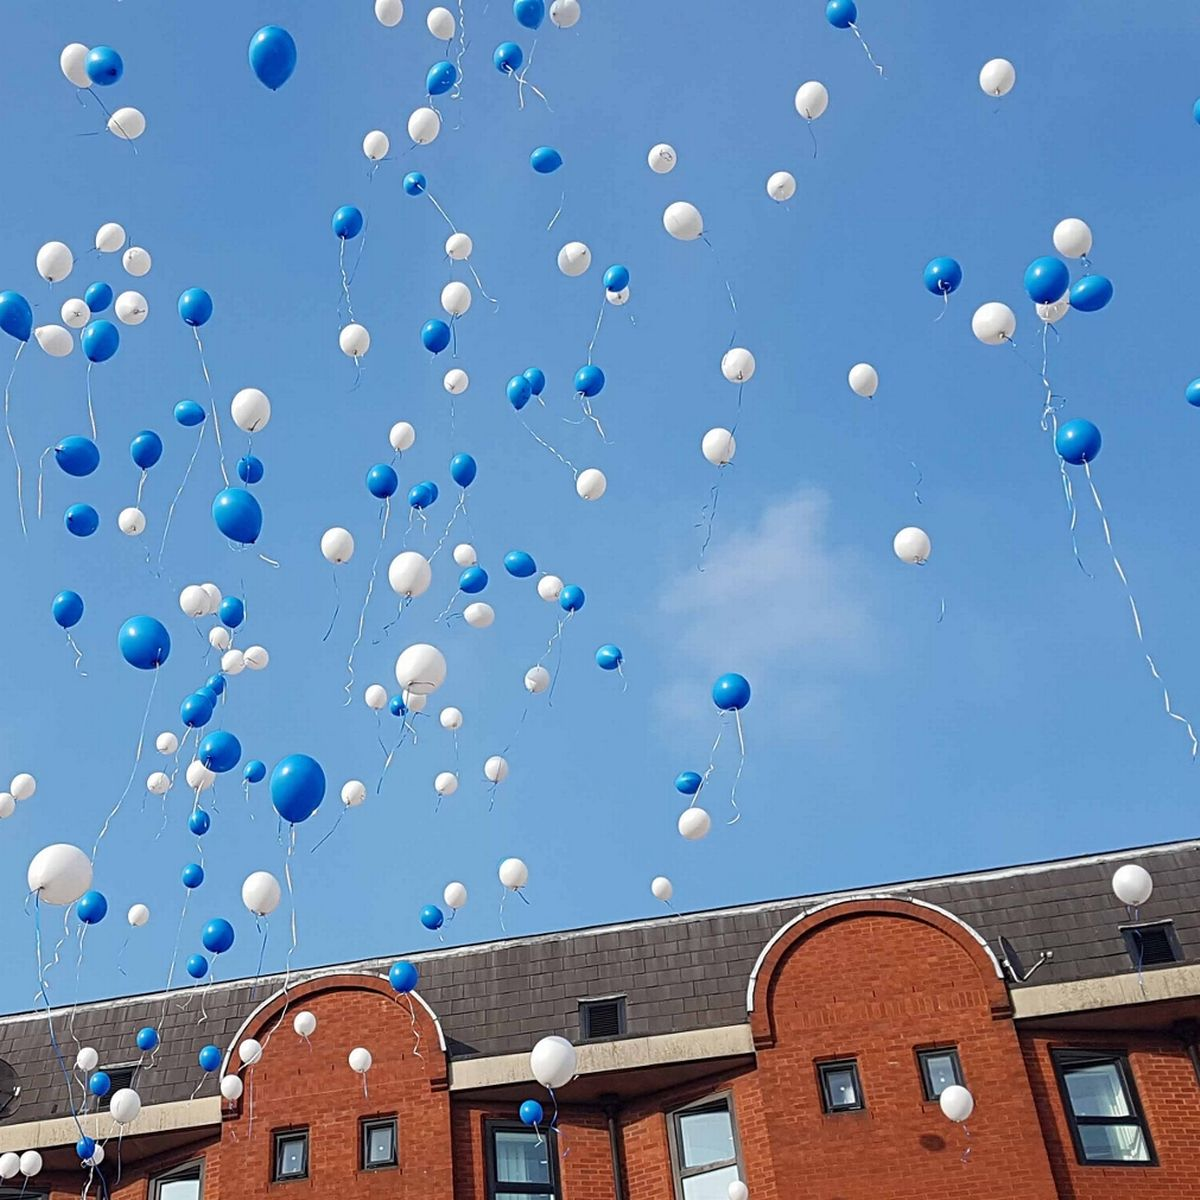Balloon: (268, 754, 326, 824), (31, 845, 93, 905), (251, 27, 295, 91), (395, 644, 448, 695), (212, 489, 262, 540), (127, 615, 171, 671), (531, 1036, 576, 1087), (1055, 419, 1102, 465), (1024, 256, 1069, 303), (229, 389, 271, 434), (973, 302, 1016, 345), (389, 552, 431, 597), (55, 435, 100, 477), (200, 732, 241, 776), (1067, 274, 1113, 312), (240, 873, 279, 916), (1053, 216, 1092, 258), (1112, 864, 1152, 905), (35, 241, 74, 284), (1, 289, 32, 342), (922, 255, 962, 295), (663, 201, 703, 240), (84, 320, 120, 362), (892, 527, 932, 565), (720, 345, 755, 387), (712, 673, 751, 710), (59, 42, 90, 88), (795, 80, 829, 121), (34, 324, 75, 358), (979, 59, 1016, 96), (179, 289, 213, 327), (129, 431, 163, 469), (322, 526, 355, 566), (105, 105, 145, 138), (557, 241, 592, 277), (63, 503, 99, 538), (938, 1084, 973, 1121), (88, 46, 122, 84), (115, 289, 149, 326), (407, 107, 440, 145), (703, 429, 736, 464), (848, 362, 879, 399), (438, 282, 471, 316), (202, 918, 234, 953), (677, 808, 712, 838), (110, 1088, 141, 1123), (331, 207, 363, 238), (179, 587, 211, 619), (425, 8, 457, 40), (340, 324, 370, 357), (425, 62, 456, 95), (421, 321, 451, 355), (576, 469, 608, 500), (366, 466, 397, 498), (77, 891, 108, 923), (388, 962, 418, 993), (574, 367, 605, 397), (95, 223, 126, 253), (84, 281, 113, 313), (451, 452, 478, 486), (498, 858, 529, 888), (647, 143, 677, 174), (60, 298, 91, 327), (504, 551, 537, 578), (182, 695, 211, 725), (360, 131, 389, 162), (513, 1, 545, 29), (767, 171, 796, 201), (122, 247, 152, 276), (825, 1, 856, 29), (174, 400, 205, 426), (495, 44, 523, 73), (118, 507, 146, 535), (549, 1, 580, 27), (374, 1, 404, 27), (531, 148, 563, 174), (458, 568, 488, 595), (389, 424, 415, 454), (673, 771, 705, 795), (602, 264, 630, 291), (10, 773, 37, 800), (444, 234, 473, 260), (508, 375, 529, 410), (465, 603, 495, 627), (518, 1099, 544, 1125), (524, 666, 549, 693), (596, 645, 623, 670), (220, 599, 244, 627), (443, 369, 469, 395), (237, 1038, 263, 1065), (484, 756, 508, 784), (443, 882, 468, 908), (453, 543, 478, 568), (244, 646, 269, 671), (537, 576, 562, 602), (238, 457, 263, 484), (341, 779, 365, 805), (199, 1045, 222, 1073), (560, 585, 584, 611), (434, 773, 459, 796), (365, 684, 388, 709), (349, 1048, 373, 1074), (295, 1012, 316, 1038), (221, 1074, 243, 1100), (420, 905, 444, 929), (438, 707, 463, 730), (182, 864, 205, 888), (652, 876, 674, 900), (186, 954, 208, 978), (76, 1047, 97, 1073), (403, 690, 426, 712), (409, 485, 431, 508), (189, 813, 211, 836), (127, 904, 149, 927), (84, 1145, 105, 1167), (90, 1073, 111, 1096), (156, 733, 176, 756), (137, 1027, 157, 1051), (246, 763, 266, 784), (149, 774, 170, 793), (389, 696, 408, 715), (1, 795, 16, 818), (76, 1138, 95, 1157)
